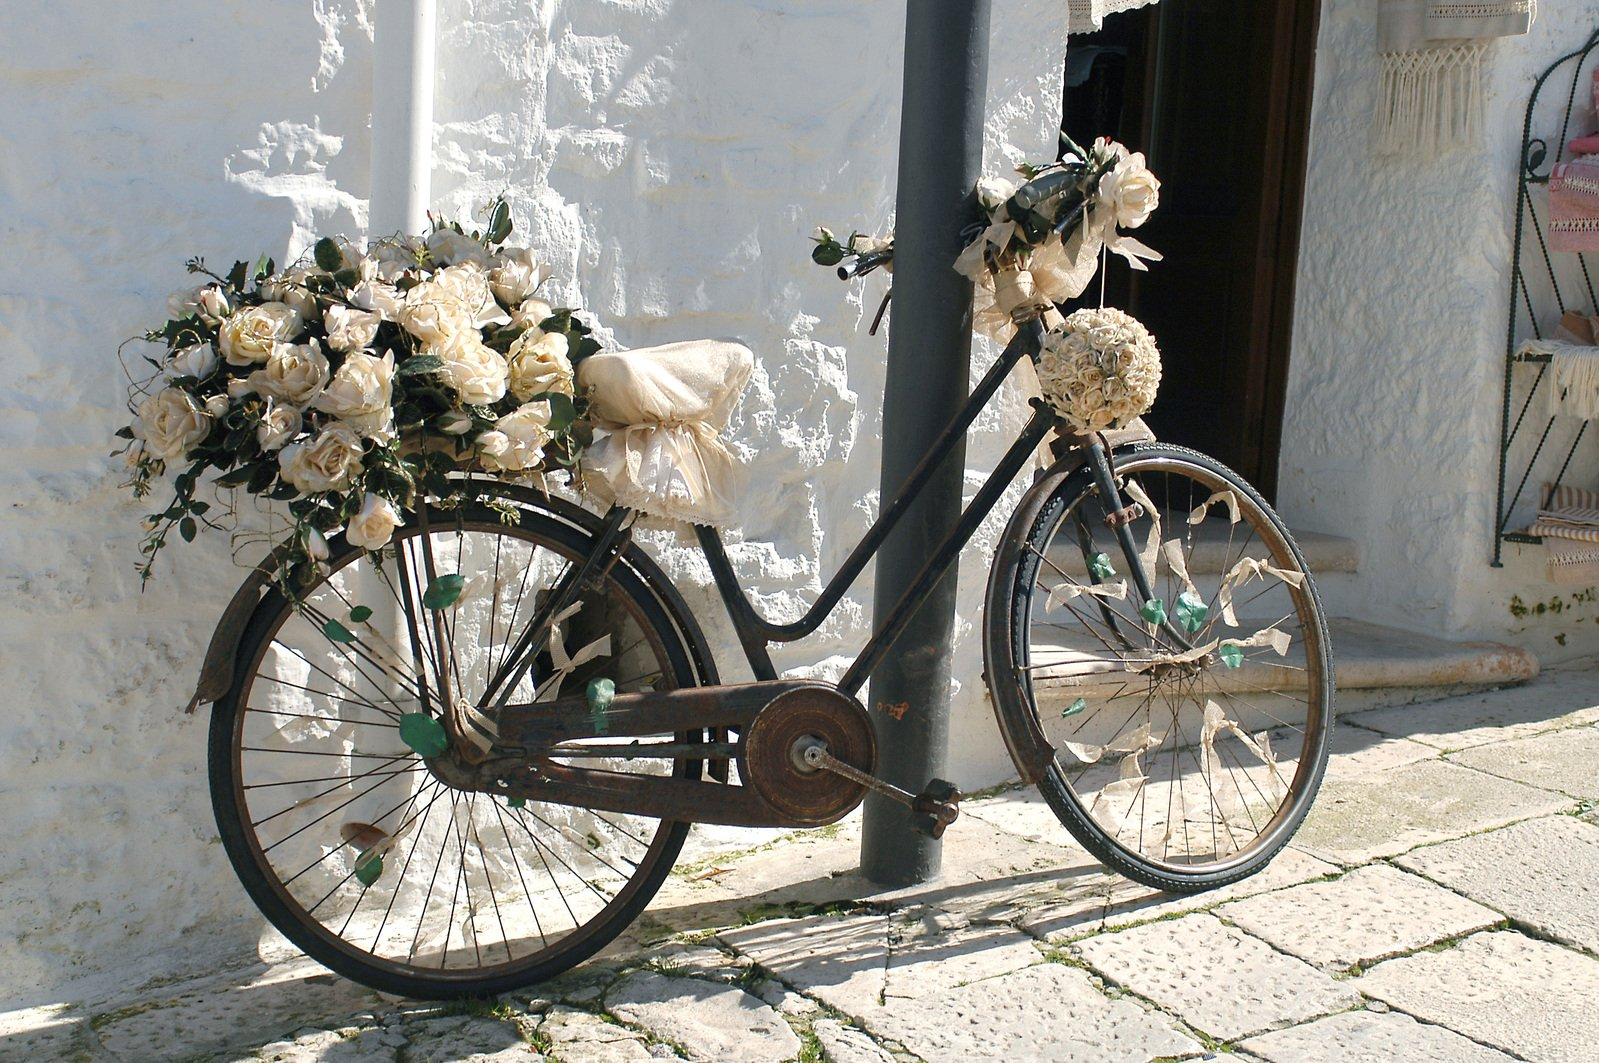Bicycle: (7, 1, 1599, 1037)
